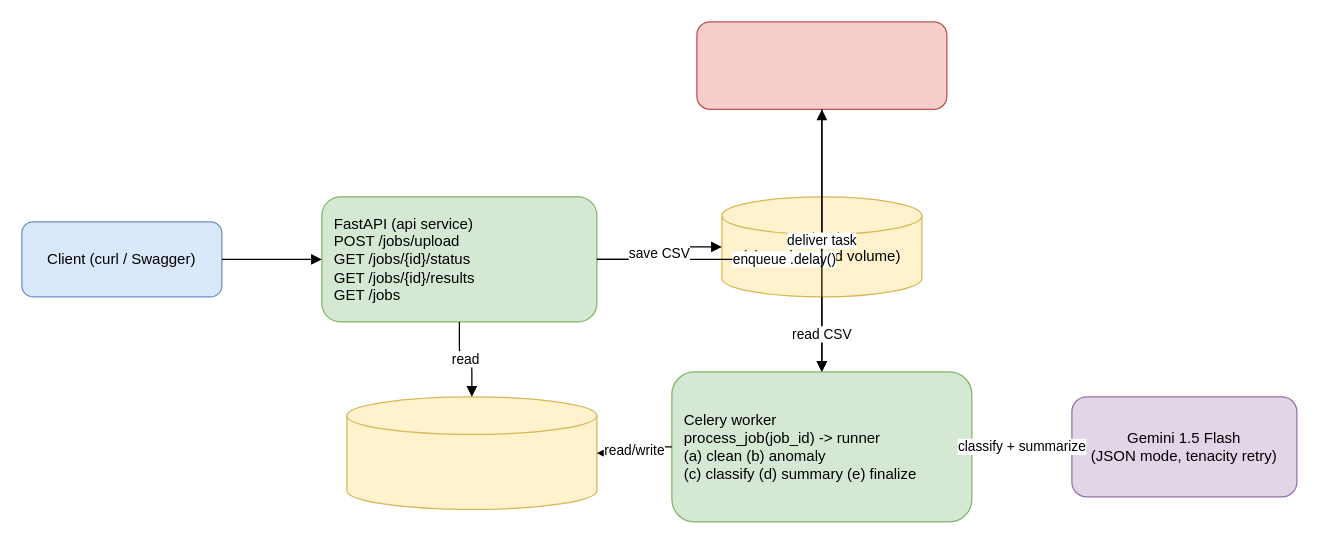
Some shapes in this 1319 by 544 pixel diagram are drawn without their labels. The shapes that lost their labels are listed below. From the top down, each one's centre as x and y in pixels, then its label:
At [821,65]: "Redis (Celery broker + result backend)".
At [471,452]: "PostgreSQL 16 Job / Transaction / JobSummary".
